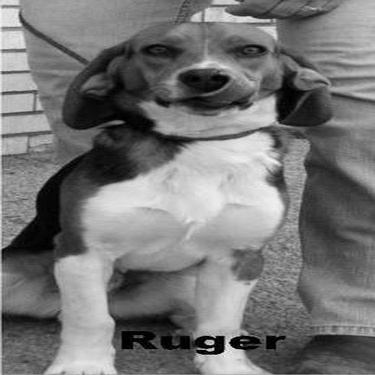dog: (2, 11, 336, 372)
